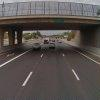Bridge: (1, 2, 95, 46)
